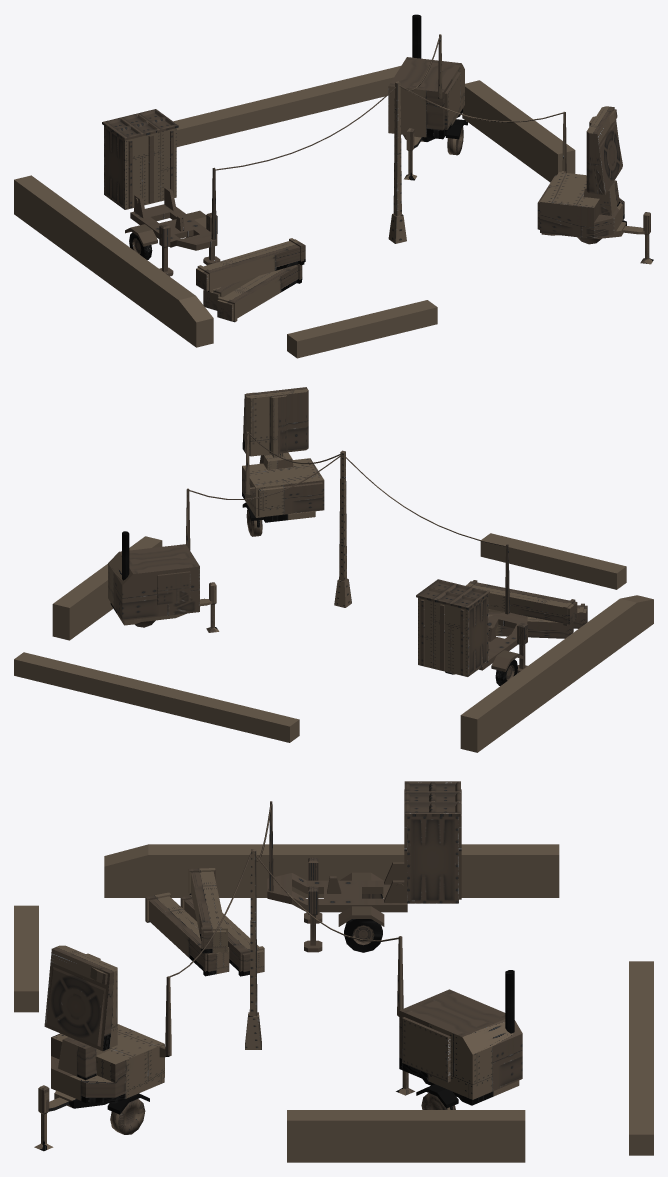
Rendered from AIr_Tower_Lvl1.fbx.
The picture shows the model from 3 angles, top to bottom: view 1: azimuth 30°, elevation 25°; view 2: azimuth 150°, elevation 25°; view 3: azimuth 270°, elevation 25°; orthographic projection. The views are drawn at different scales.
Parts seen in each view (by area): view 1: Cube.061; view 2: Cube.061; view 3: Cube.061.
Part boxes in pixels (x1,y1,x2,y2): Cube.061: [14, 14, 653, 358]; Cube.061: [14, 387, 653, 752]; Cube.061: [14, 781, 653, 1162].
Bounding box in the file's own units: 7.55 × 2.56 × 7.68.
